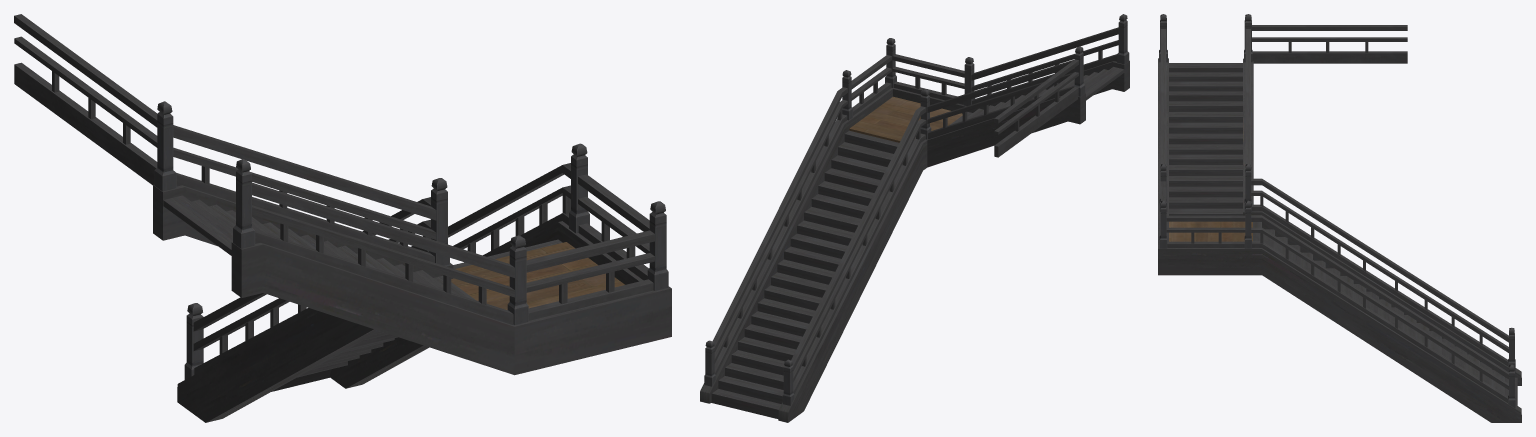
File: Homeworld_Interior_Dq_Room_P_Stair_01_01_Vo.fbx
3 renders of one model, left to right at view 1: azimuth 30°, elevation 25°; view 2: azimuth 150°, elevation 25°; view 3: azimuth 270°, elevation 25°, orthographic. The views are drawn at different scales.
Visible parts, largest first — view 1: Homeworld_Interior_Dq_Room_P_Stair_01_01_Vo; view 2: Homeworld_Interior_Dq_Room_P_Stair_01_01_Vo; view 3: Homeworld_Interior_Dq_Room_P_Stair_01_01_Vo.
Boxes of the visible parts, left/top/right/bottom form: Homeworld_Interior_Dq_Room_P_Stair_01_01_Vo: left=14, top=14, right=671, bottom=422; Homeworld_Interior_Dq_Room_P_Stair_01_01_Vo: left=700, top=14, right=1129, bottom=422; Homeworld_Interior_Dq_Room_P_Stair_01_01_Vo: left=1158, top=14, right=1521, bottom=422.
Size of the model in its own units: 4.78 by 5.87 by 6.49.
